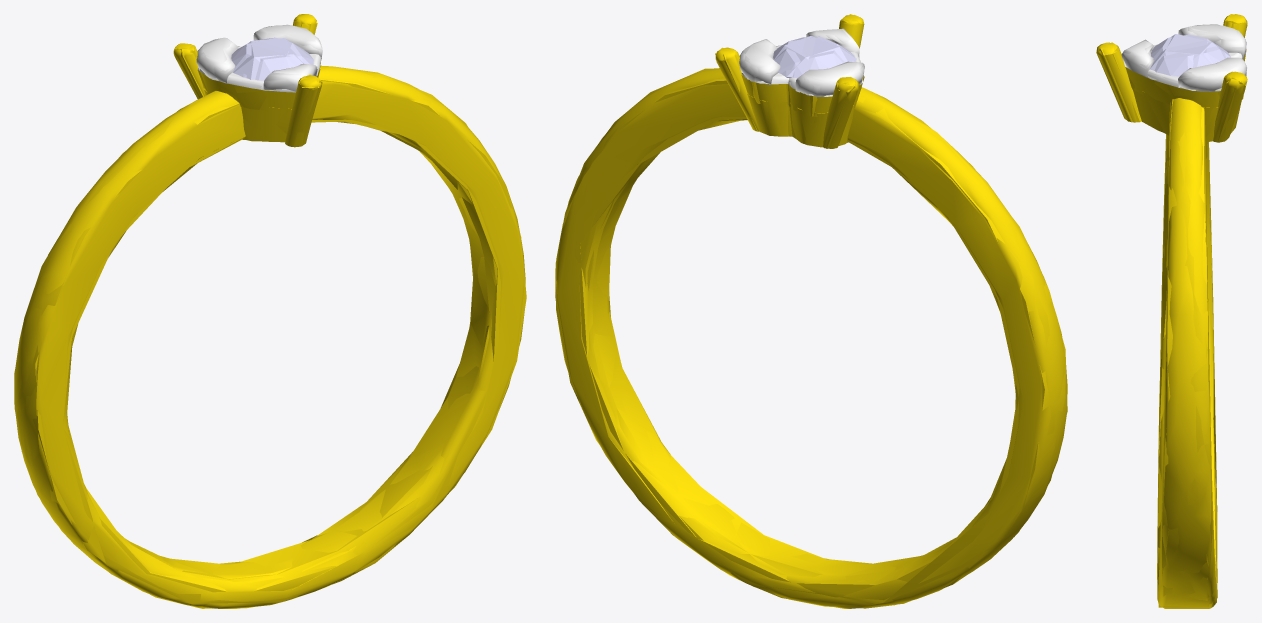
File: DLR-D000726923.glb
3 renders of one model, left to right at view 1: azimuth 30°, elevation 25°; view 2: azimuth 150°, elevation 25°; view 3: azimuth 270°, elevation 25°, orthographic.
Visible parts, largest first — view 1: highPolyMesh, lowPolyMesh; view 2: highPolyMesh, lowPolyMesh; view 3: highPolyMesh, lowPolyMesh.
Boxes of the visible parts, bbox=[...] form: highPolyMesh: bbox=[14, 14, 525, 608]; lowPolyMesh: bbox=[14, 14, 526, 608]; highPolyMesh: bbox=[555, 15, 1067, 608]; lowPolyMesh: bbox=[555, 14, 1067, 608]; highPolyMesh: bbox=[1096, 14, 1247, 608]; lowPolyMesh: bbox=[1096, 14, 1247, 607].
Size of the model in its own units: 0.0197 by 0.0205 by 0.00522.
